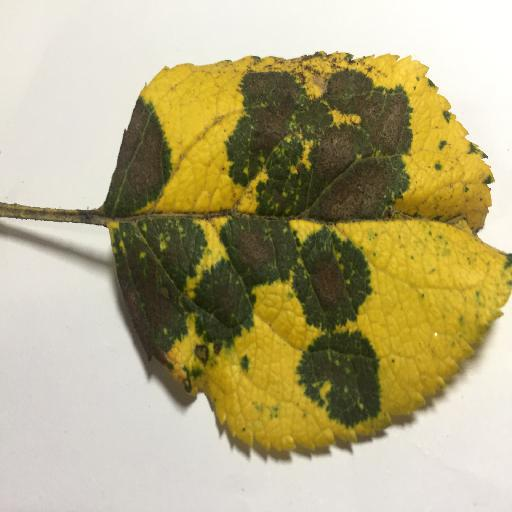Brown_Spot: (223, 73, 409, 219), (132, 239, 190, 336), (124, 116, 175, 196), (310, 245, 351, 309), (208, 272, 248, 332), (233, 226, 271, 271)
